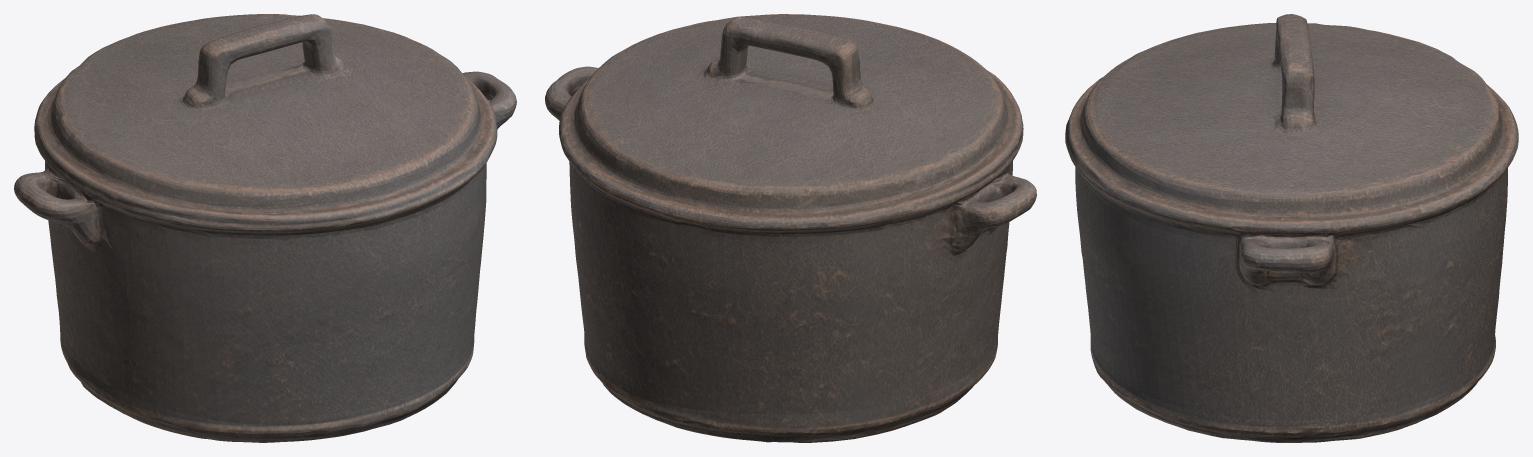
File: Pot2.fbx
3 views of the same model, side by side, from view 1: azimuth 30°, elevation 25°; view 2: azimuth 150°, elevation 25°; view 3: azimuth 270°, elevation 25° (orthographic). The views are drawn at different scales.
Parts seen in each view (by area): view 1: Pot2_Low; view 2: Pot2_Low; view 3: Pot2_Low.
Part boxes in pixels (x1,y1,x2,y2): Pot2_Low: [14, 14, 516, 442]; Pot2_Low: [545, 14, 1036, 442]; Pot2_Low: [1065, 14, 1518, 442].
Bounding box in the file's own units: 0.998 × 0.6708 × 0.8463.
